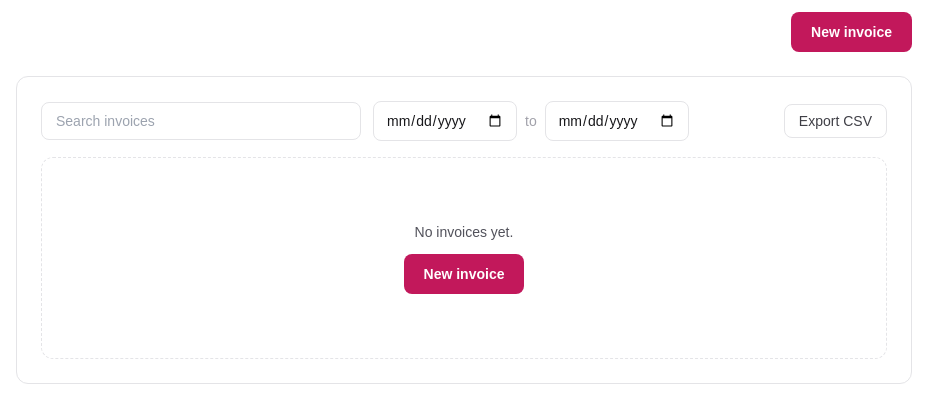
Documents › shows a search-specific empty message instead of the generic one while searching
Check: the text "No invoices yet." is shown, box 415,222 -> 513,242
Type "zzz" into the field labelled "Search invoices".
click(201, 121); type("zzz")  # box 41,102 -> 361,140
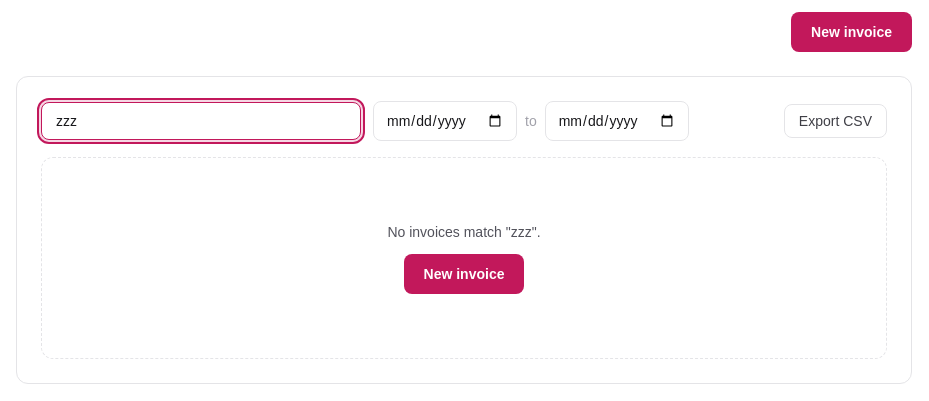
Check: the text "No invoices match \"zzz\"." is shown, box 387,222 -> 540,242
Check: the text "No invoices yet" is gone
